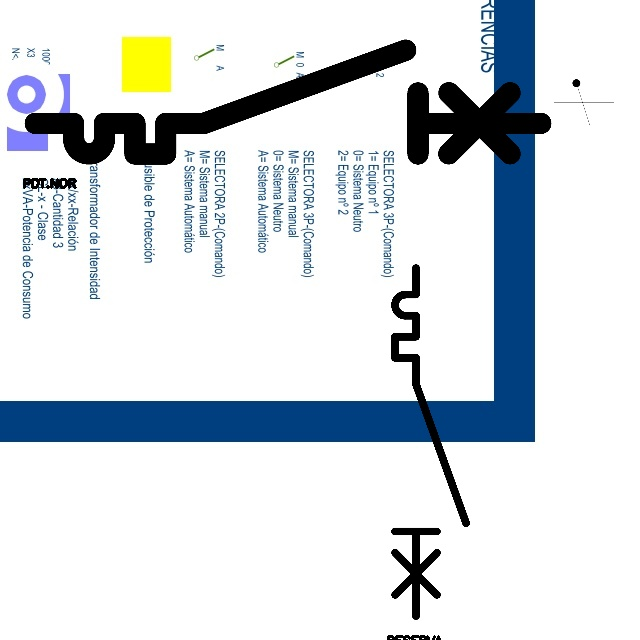interruptor_termomagnetico: (22, 37, 554, 167), (386, 259, 475, 625)
